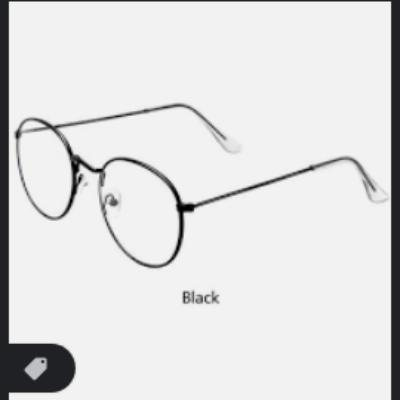glasses: (16, 103, 392, 271)
